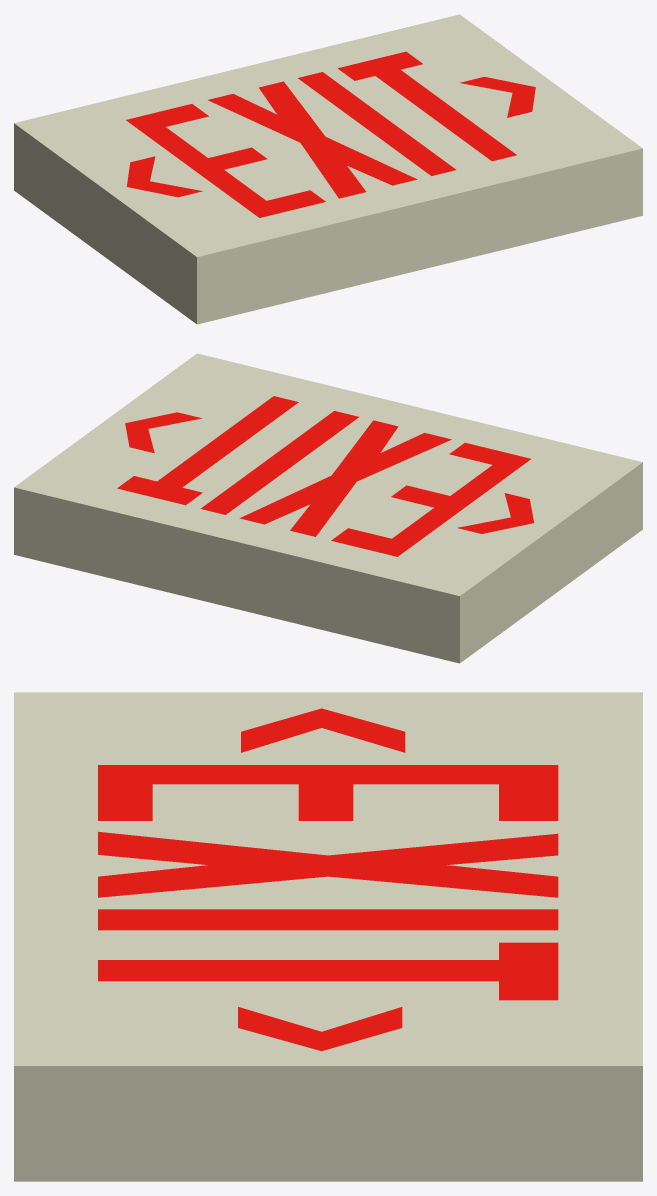
File: Sign_Exit_Red.dae
3 views of the same model, one above another, from view 1: azimuth 30°, elevation 25°; view 2: azimuth 150°, elevation 25°; view 3: azimuth 270°, elevation 25° (orthographic). The views are drawn at different scales.
Visible parts, largest first — view 1: SketchUp, exit_r (×6); view 2: SketchUp, exit_r (×6); view 3: SketchUp, exit_r (×6).
Boxes of the visible parts, <box> form: SketchUp: <box>14,14,642,324</box>; exit_r (×6): <box>126,51,535,217</box>; SketchUp: <box>14,353,642,663</box>; exit_r (×6): <box>117,396,533,556</box>; SketchUp: <box>14,692,642,1181</box>; exit_r (×6): <box>98,708,558,1051</box>.
Size of the model in its own units: 12.12 by 8.62 by 1.75.
